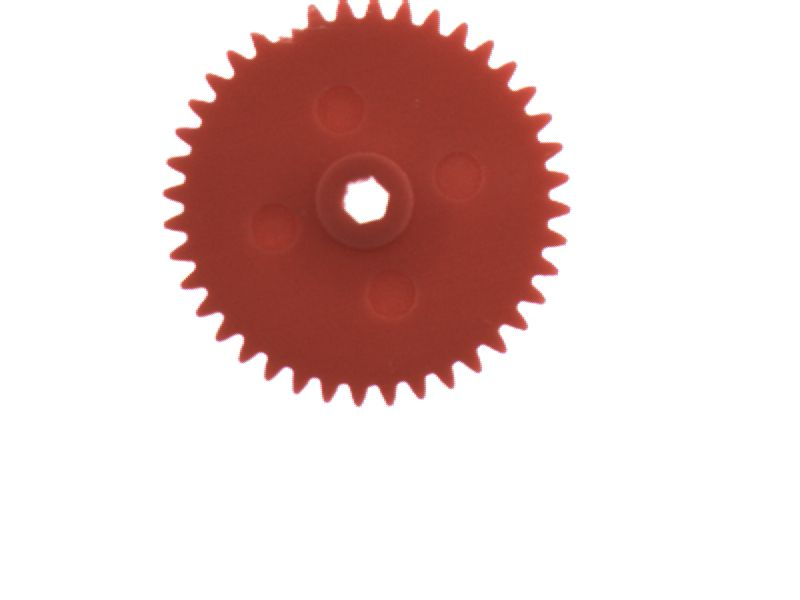defect_lack: (264, 9, 314, 52)
